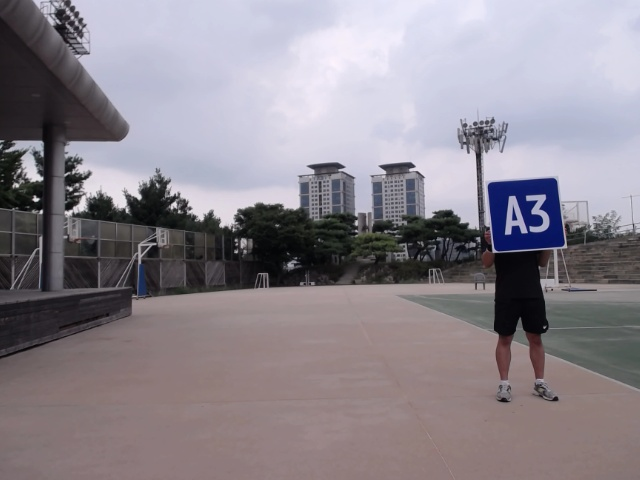delivery_a3: (487, 177, 566, 252)
